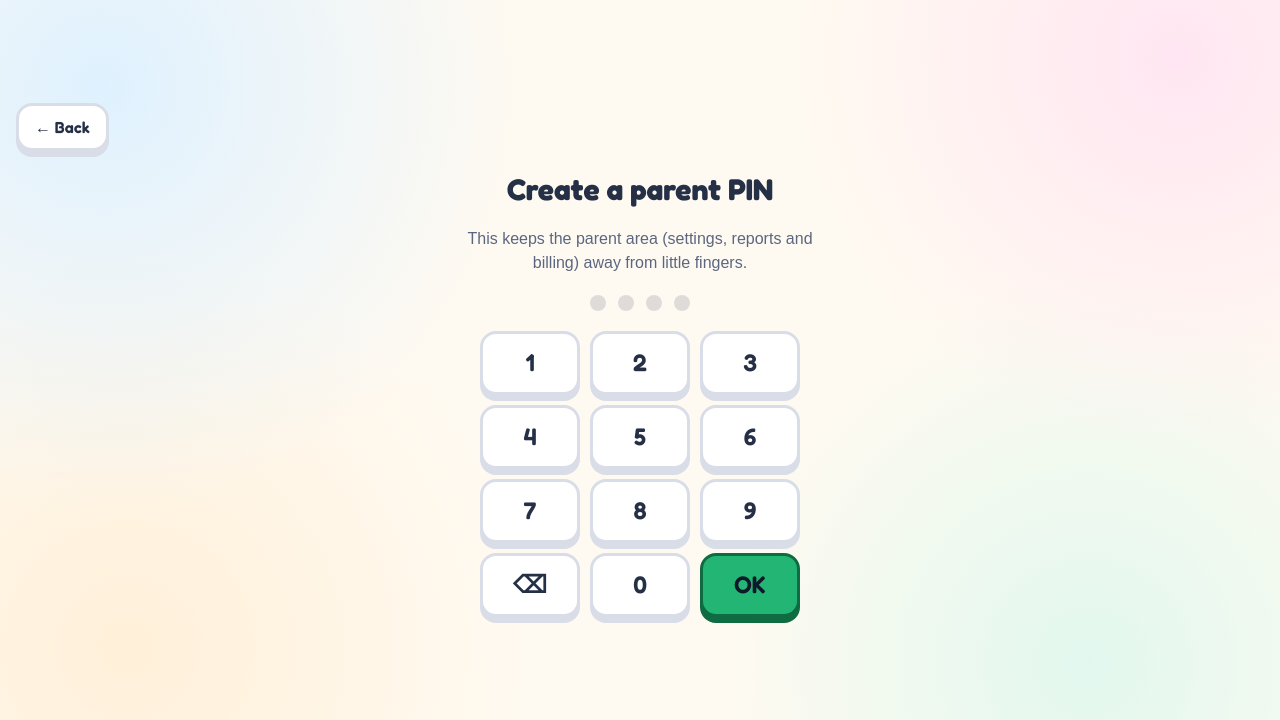
Scenario: parent Gate › rejects a PIN shorter than 4 digits
The image size is (1280, 720).
Click the button "1" at (530, 363), box [480,331,580,395]
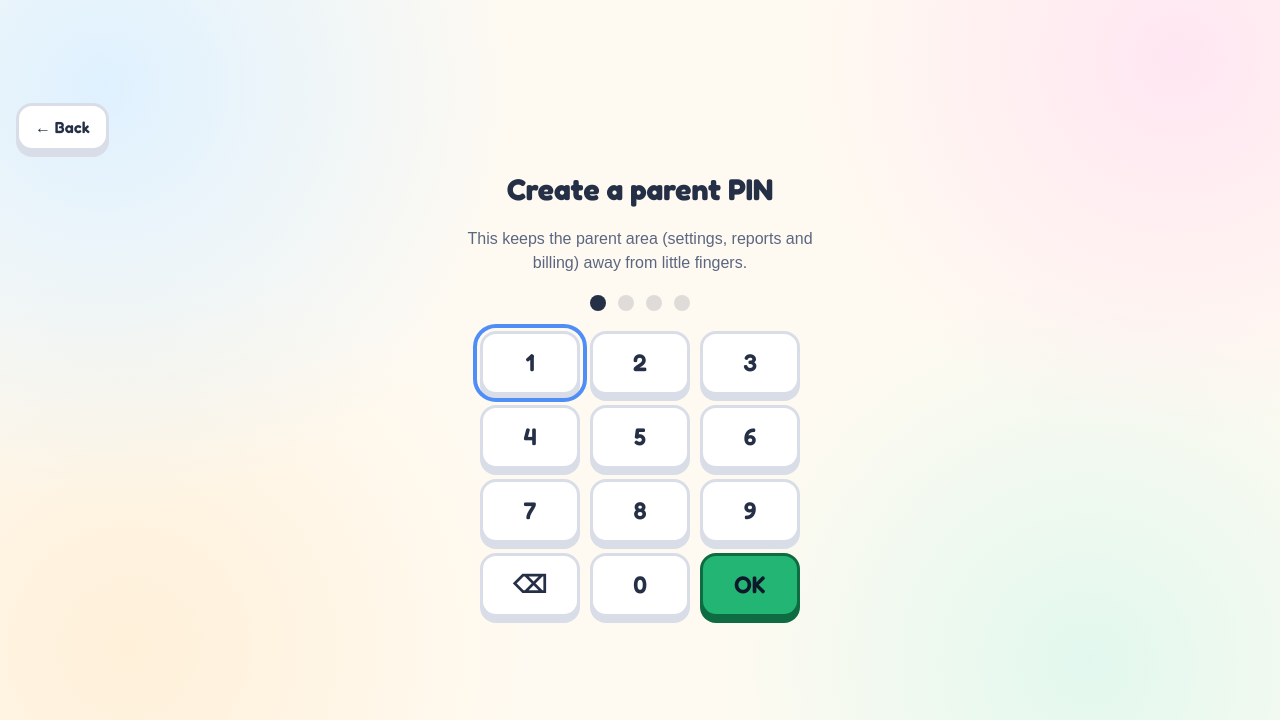
Click the button "2" at (640, 363), box [590,331,690,395]
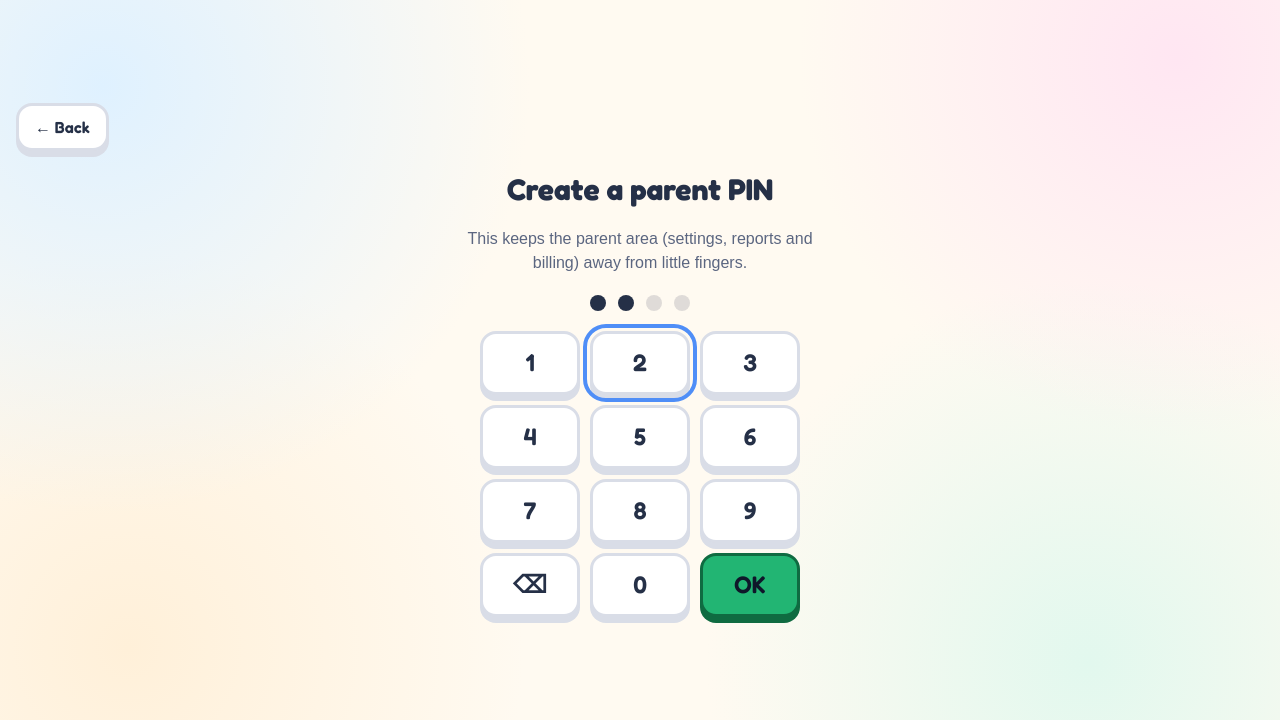
Click the button "OK" at (750, 585), box [700,553,800,617]
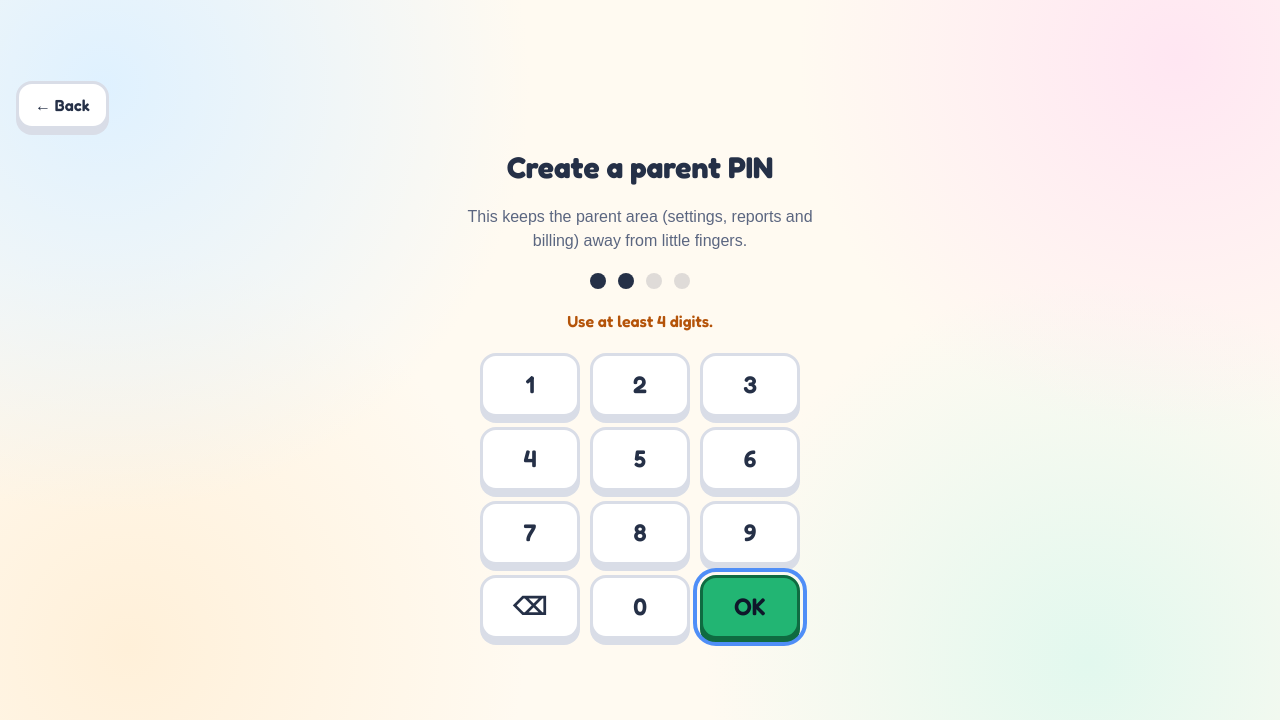
Now the text "Use at least 4 digits." is shown, box [567,309,713,333]
